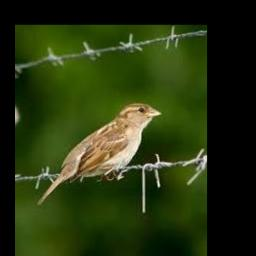Sparrow: (36, 102, 162, 205)
